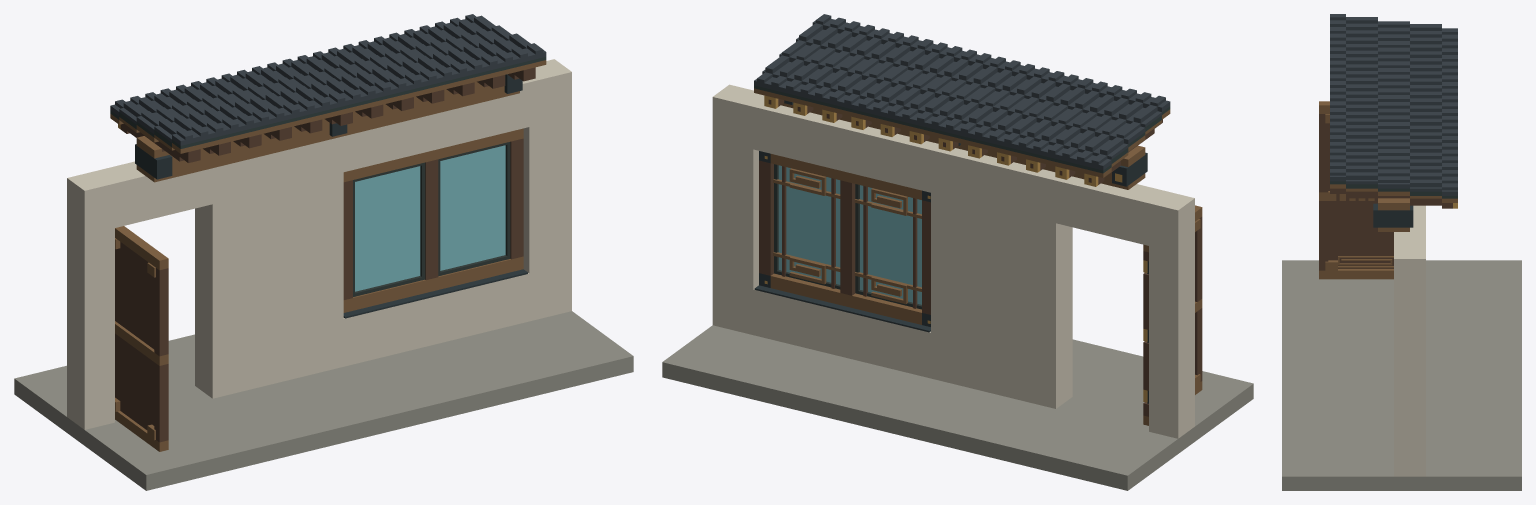
3 renders of one model, left to right at view 1: azimuth 30°, elevation 25°; view 2: azimuth 150°, elevation 25°; view 3: azimuth 270°, elevation 25°, orthographic. The views are drawn at different scales.
Visible parts, largest first — view 1: 明确门窗洞口与RoofRegion墙架（辅助）, 门窗安装地坪（辅助）, 薄瓦檐梁椽母版A2, 精细体素木窗棂视觉母版, 精细体素木门扇视觉母版; view 2: 明确门窗洞口与RoofRegion墙架（辅助）, 门窗安装地坪（辅助）, 薄瓦檐梁椽母版A2, 精细体素木窗棂视觉母版, 精细体素木门扇视觉母版; view 3: 门窗安装地坪（辅助）, 薄瓦檐梁椽母版A2, 明确门窗洞口与RoofRegion墙架（辅助）, 精细体素木门扇视觉母版.
Boxes of the visible parts, x1,y1,x2,y2 form: 明确门窗洞口与RoofRegion墙架（辅助）: (67,59,571,429); 门窗安装地坪（辅助）: (14,311,633,490); 薄瓦檐梁椽母版A2: (110,14,546,182); 精细体素木窗棂视觉母版: (343,128,523,312); 精细体素木门扇视觉母版: (115,226,168,451); 明确门窗洞口与RoofRegion墙架（辅助）: (712,84,1194,438); 门窗安装地坪（辅助）: (662,325,1253,490); 薄瓦檐梁椽母版A2: (754,14,1170,189); 精细体素木窗棂视觉母版: (759,151,930,326); 精细体素木门扇视觉母版: (1143,205,1202,425); 门窗安装地坪（辅助）: (1282,260,1521,490); 薄瓦檐梁椽母版A2: (1330,14,1457,231); 明确门窗洞口与RoofRegion墙架（辅助）: (1394,205,1425,476); 精细体素木门扇视觉母版: (1319,101,1393,279).
Size of the model in its own units: 6.4 by 4 by 3.
Materials: 10 (10 with a texture image).
